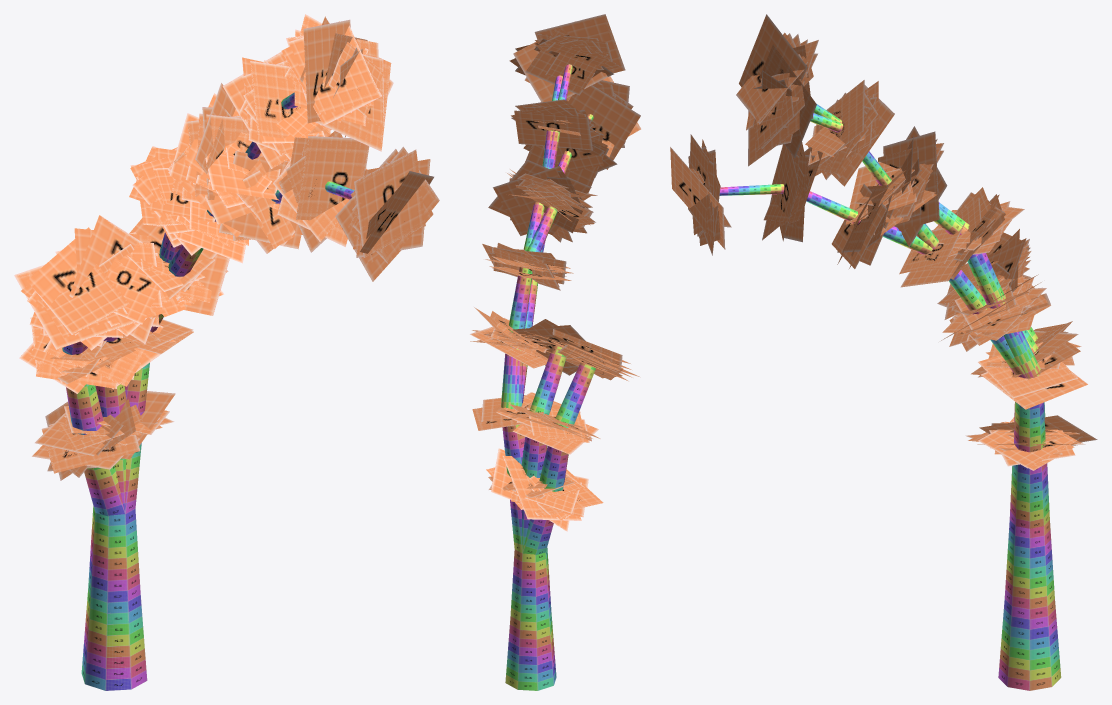
The model's file is test_tree.obj.
3 renders of one model, left to right at view 1: azimuth 30°, elevation 25°; view 2: azimuth 150°, elevation 25°; view 3: azimuth 270°, elevation 25°, orthographic. The views are drawn at different scales.
Size of the model in its own units: 0.8837 by 2.4 by 1.36.
